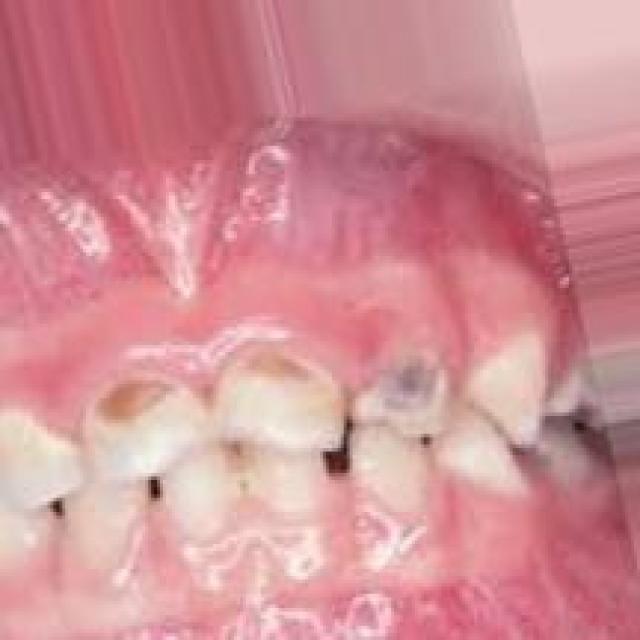caries: (352, 337, 453, 442), (229, 333, 338, 419), (84, 359, 182, 442)
